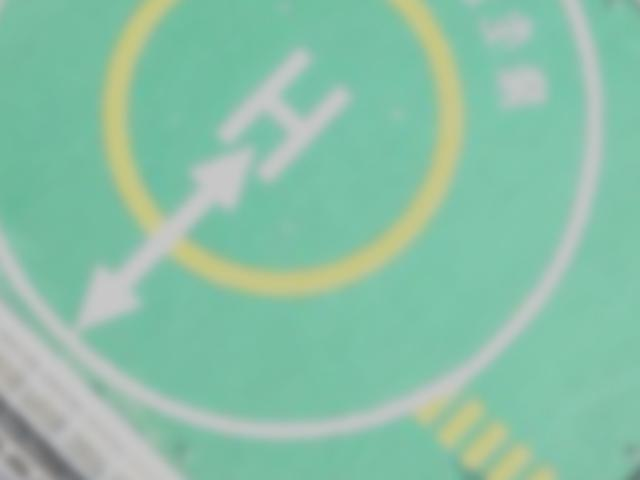Apron: (100, 1, 471, 303)
